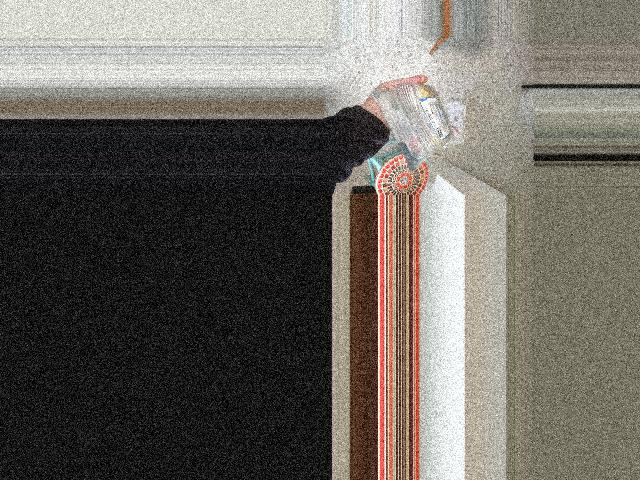cheese: (384, 101, 475, 140)
